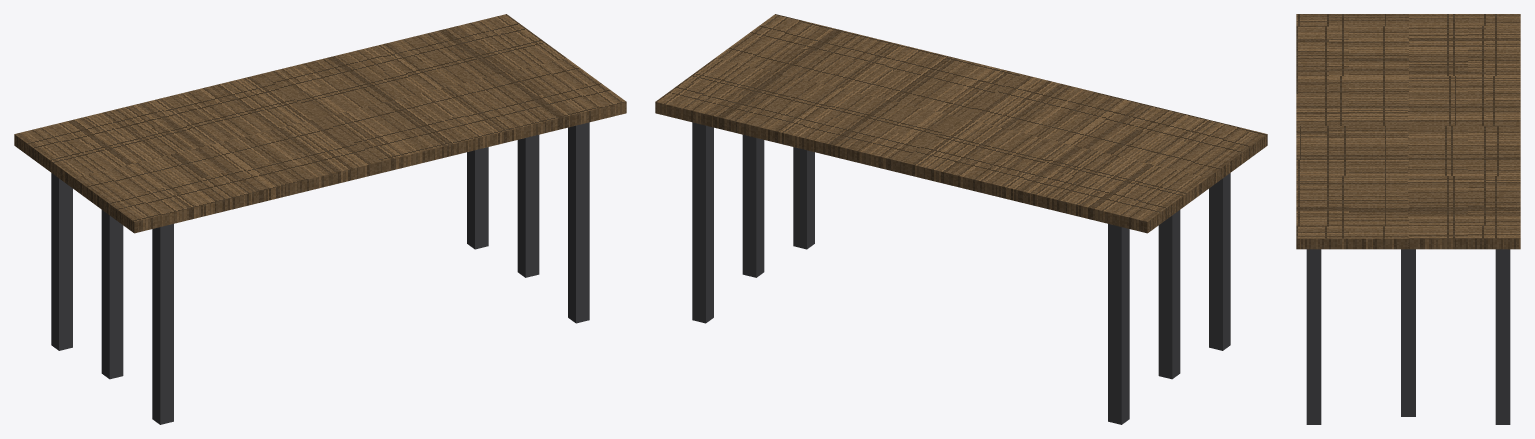
File: fb_folding_table.glb
3 renders of one model, left to right at view 1: azimuth 30°, elevation 25°; view 2: azimuth 150°, elevation 25°; view 3: azimuth 270°, elevation 25°, orthographic. The views are drawn at different scales.
Parts seen in each view (by area): view 1: fb_folding_table; view 2: fb_folding_table; view 3: fb_folding_table.
Boxes of the visible parts, bbox=[...] form: fb_folding_table: bbox=[14, 14, 626, 424]; fb_folding_table: bbox=[655, 14, 1267, 424]; fb_folding_table: bbox=[1296, 14, 1520, 424].
Size of what is drawn, in the model's own units: 1.8 by 0.75 by 0.76.
2 materials, 1 textured.
